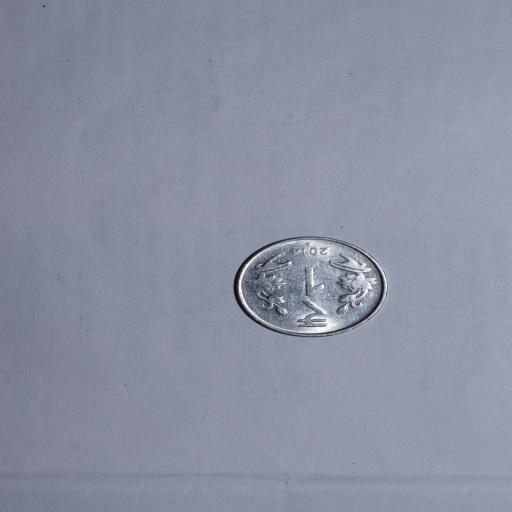rupee1: (232, 236, 387, 337)
